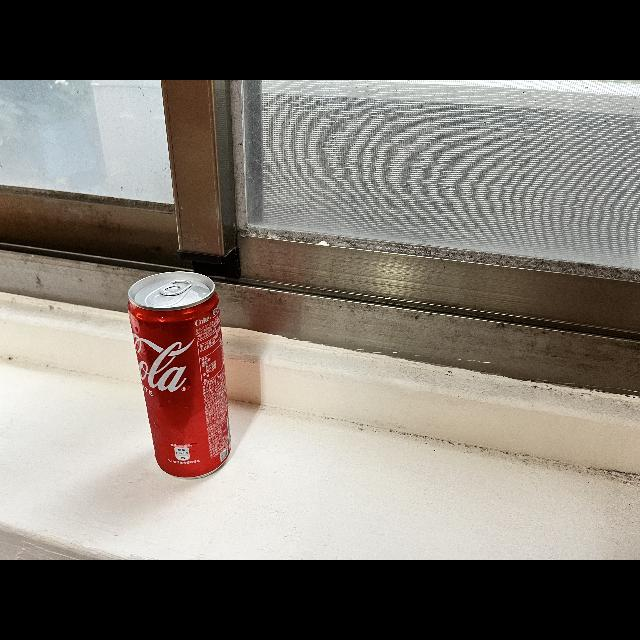can: (125, 264, 238, 476)
